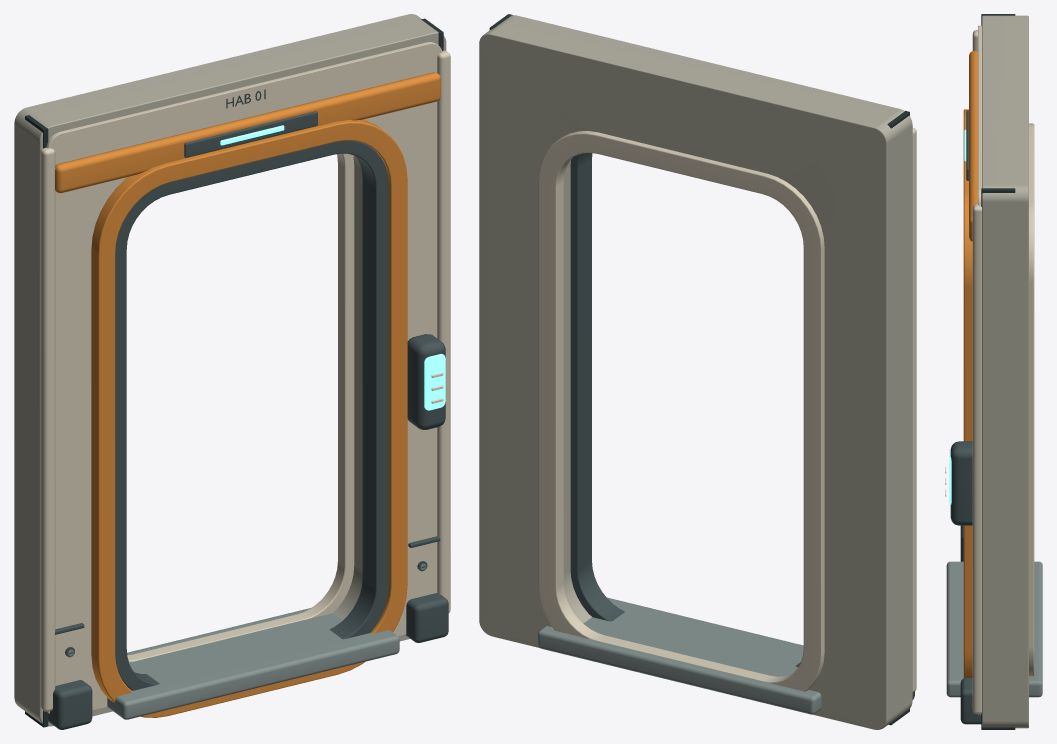
Rendered from wall-doorway-2m.glb.
3 views of the same model, side by side, from view 1: azimuth 30°, elevation 25°; view 2: azimuth 150°, elevation 25°; view 3: azimuth 270°, elevation 25° (orthographic). The views are drawn at different scales.
Parts seen in each view (by area): view 1: wall-doorway-2m / 01 • warm porcelain paint, wall-doorway-2m / 03 • ochre enamel, wall-doorway-2m / 02 • inner shell, wall-doorway-2m / 06 • dark anodized frame, wall-doorway-2m / 05 • brushed titanium, wall-doorway-2m / 08 • cyan indicator; view 2: wall-doorway-2m / 02 • inner shell, wall-doorway-2m / 01 • warm porcelain paint, wall-doorway-2m / 05 • brushed titanium, wall-doorway-2m / 06 • dark anodized frame; view 3: wall-doorway-2m / 02 • inner shell, wall-doorway-2m / 01 • warm porcelain paint, wall-doorway-2m / 03 • ochre enamel, wall-doorway-2m / 05 • brushed titanium, wall-doorway-2m / 06 • dark anodized frame, wall-doorway-2m / 04 • graphite gasket, wall-doorway-2m / 08 • cyan indicator.
Part boxes in pixels (box(x1,y1,x2,y2)): wall-doorway-2m / 01 • warm porcelain paint: box(40, 42, 450, 713); wall-doorway-2m / 03 • ochre enamel: box(55, 72, 440, 717); wall-doorway-2m / 02 • inner shell: box(14, 14, 446, 726); wall-doorway-2m / 06 • dark anodized frame: box(48, 111, 448, 729); wall-doorway-2m / 05 • brushed titanium: box(68, 563, 426, 719); wall-doorway-2m / 08 • cyan indicator: box(220, 125, 445, 410); wall-doorway-2m / 02 • inner shell: box(479, 15, 912, 729); wall-doorway-2m / 01 • warm porcelain paint: box(538, 127, 916, 692); wall-doorway-2m / 05 • brushed titanium: box(538, 597, 821, 714); wall-doorway-2m / 06 • dark anodized frame: box(570, 153, 914, 699); wall-doorway-2m / 02 • inner shell: box(982, 15, 1028, 728); wall-doorway-2m / 01 • warm porcelain paint: box(972, 25, 1034, 715); wall-doorway-2m / 03 • ochre enamel: box(963, 50, 977, 678); wall-doorway-2m / 05 • brushed titanium: box(946, 561, 1042, 697); wall-doorway-2m / 06 • dark anodized frame: box(950, 110, 981, 724); wall-doorway-2m / 04 • graphite gasket: box(981, 14, 1015, 729); wall-doorway-2m / 08 • cyan indicator: box(949, 129, 966, 504).
Bounding box in the file's own units: 1.99 × 2.84 × 0.457.
